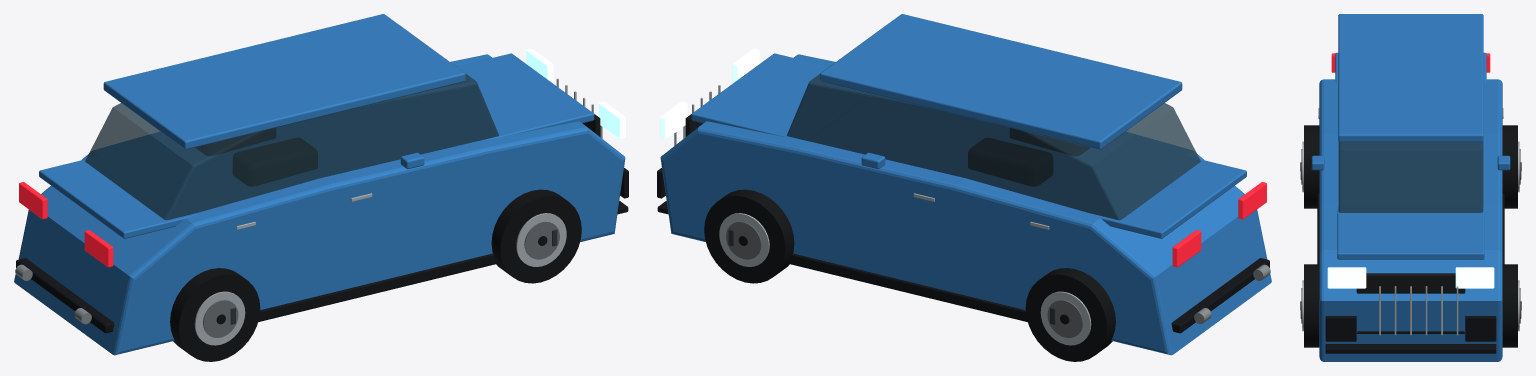
Rendered from ford_transit.glb.
The picture shows the model from 3 angles, left to right: view 1: azimuth 30°, elevation 25°; view 2: azimuth 150°, elevation 25°; view 3: azimuth 270°, elevation 25°; orthographic projection. The views are drawn at different scales.
Parts seen in each view (by area): view 1: sculpted_body, glasshouse, roof, hood_center, rear_deck, rear_right_wheel_tire, front_right_wheel_tire, side_skirt_1, seat_1, rear_diffuser, rear_right_wheel_rim, front_right_wheel_rim (+7 smaller); view 2: sculpted_body, glasshouse, roof, hood_center, rear_deck, rear_left_wheel_tire, front_left_wheel_tire, side_skirt_-1, seat_-1, rear_diffuser, rear_left_wheel_rim, front_left_wheel_rim (+7 smaller); view 3: sculpted_body, roof, glasshouse, hood_center, front_grille, front_splitter, front_left_wheel_tire, front_right_wheel_tire, rear_left_wheel_tire, rear_right_wheel_tire, headlight_right, headlight_left (+7 smaller).
Boxes of the visible parts, left/top/right/bottom form: sculpted_body: left=14, top=54, right=625, bottom=355; glasshouse: left=85, top=25, right=498, bottom=220; roof: left=103, top=14, right=465, bottom=149; hood_center: left=417, top=53, right=594, bottom=140; rear_deck: left=39, top=153, right=198, bottom=238; rear_right_wheel_tire: left=170, top=268, right=260, bottom=361; front_right_wheel_tire: left=491, top=189, right=581, bottom=283; side_skirt_1: left=258, top=253, right=497, bottom=322; seat_1: left=233, top=138, right=317, bottom=185; rear_diffuser: left=16, top=258, right=114, bottom=333; rear_right_wheel_rim: left=194, top=291, right=245, bottom=345; front_right_wheel_rim: left=516, top=213, right=566, bottom=266; sculpted_body: left=660, top=54, right=1271, bottom=355; glasshouse: left=787, top=25, right=1200, bottom=220; roof: left=820, top=14, right=1182, bottom=149; hood_center: left=691, top=53, right=868, bottom=140; rear_deck: left=1087, top=153, right=1246, bottom=238; rear_left_wheel_tire: left=1025, top=268, right=1115, bottom=361; front_left_wheel_tire: left=704, top=189, right=794, bottom=283; side_skirt_-1: left=788, top=253, right=1027, bottom=322; seat_-1: left=968, top=138, right=1052, bottom=185; rear_diffuser: left=1171, top=258, right=1269, bottom=333; rear_left_wheel_rim: left=1040, top=291, right=1091, bottom=345; front_left_wheel_rim: left=719, top=213, right=769, bottom=266; sculpted_body: left=1319, top=79, right=1502, bottom=361; roof: left=1338, top=14, right=1483, bottom=142; glasshouse: left=1338, top=142, right=1483, bottom=212; hood_center: left=1337, top=205, right=1484, bottom=259; front_grille: left=1356, top=273, right=1465, bottom=333; front_splitter: left=1325, top=344, right=1496, bottom=353; front_left_wheel_tire: left=1502, top=264, right=1517, bottom=347; front_right_wheel_tire: left=1304, top=264, right=1319, bottom=347; rear_left_wheel_tire: left=1502, top=125, right=1517, bottom=208; rear_right_wheel_tire: left=1304, top=125, right=1319, bottom=208; headlight_right: left=1327, top=267, right=1366, bottom=288; headlight_left: left=1455, top=267, right=1494, bottom=288.
Bounding box in the file's own units: 5.66 × 2.1 × 2.28.
